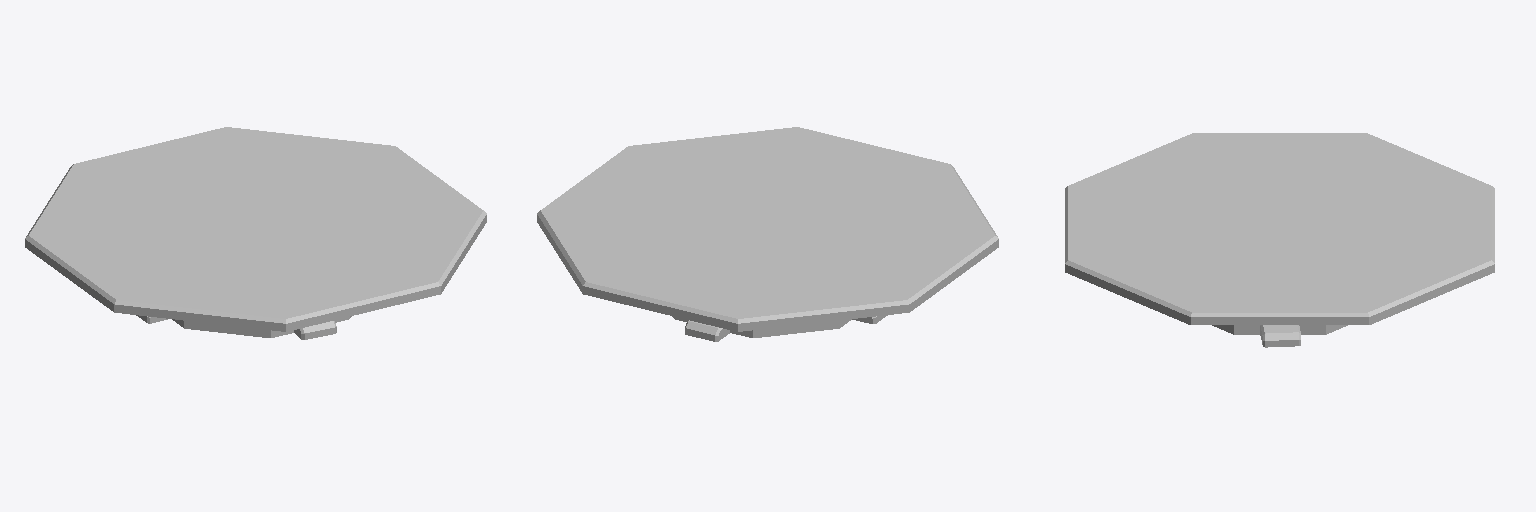
Rendered from Table 1.obj.
3 views of the same model, side by side, from view 1: azimuth 30°, elevation 25°; view 2: azimuth 150°, elevation 25°; view 3: azimuth 270°, elevation 25° (orthographic).
Parts seen in each view (by area): view 1: Cube_Cube.001; view 2: Cube_Cube.001; view 3: Cube_Cube.001.
Boxes of the visible parts, x1=… form: Cube_Cube.001: x1=25, y1=127, x2=486, y2=339; Cube_Cube.001: x1=537, y1=127, x2=998, y2=341; Cube_Cube.001: x1=1065, y1=133, x2=1494, y2=347.
Bounding box in the file's own units: 6 × 1.01 × 6.